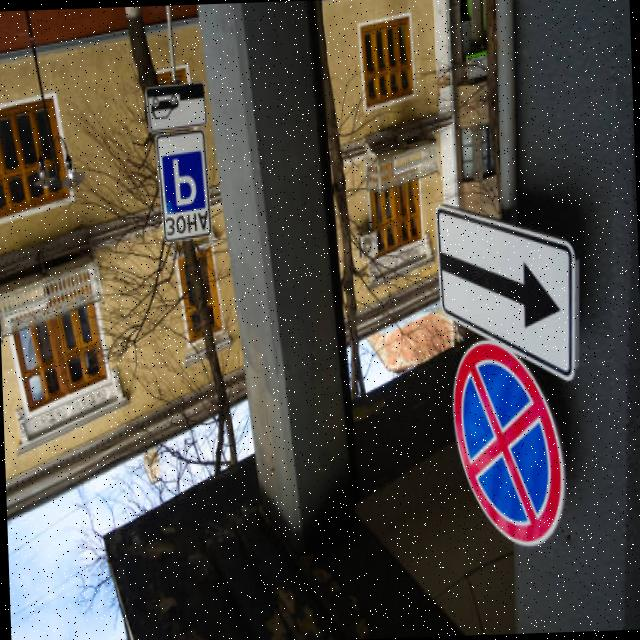no_parking: (444, 337, 568, 554)
